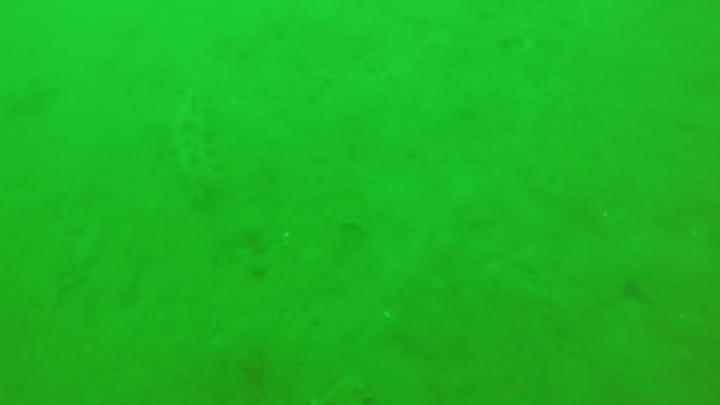holothurian: (161, 95, 226, 200)
